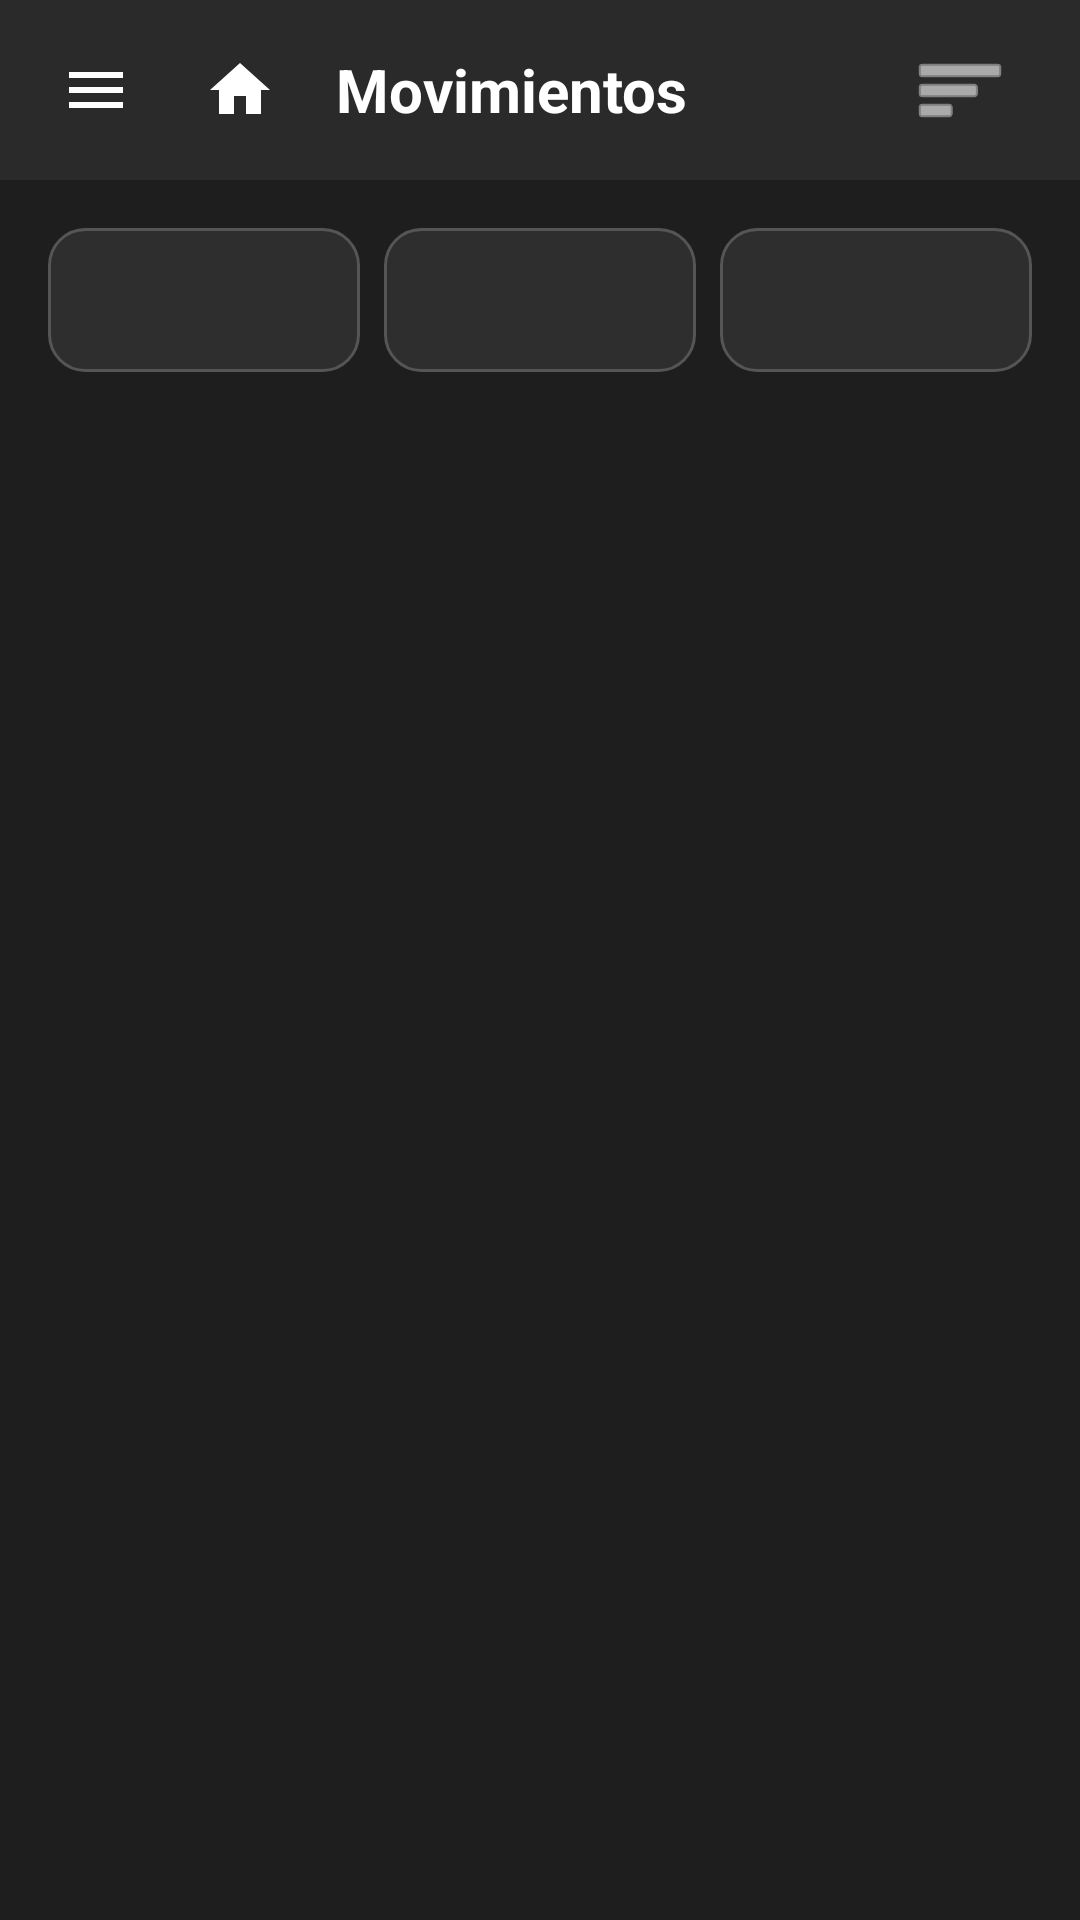

Icon click points for this 1080px×1920px phone screenshot, format (x=x, y=y):
Menú: (x=96, y=90)
sort by size: (x=960, y=90)
